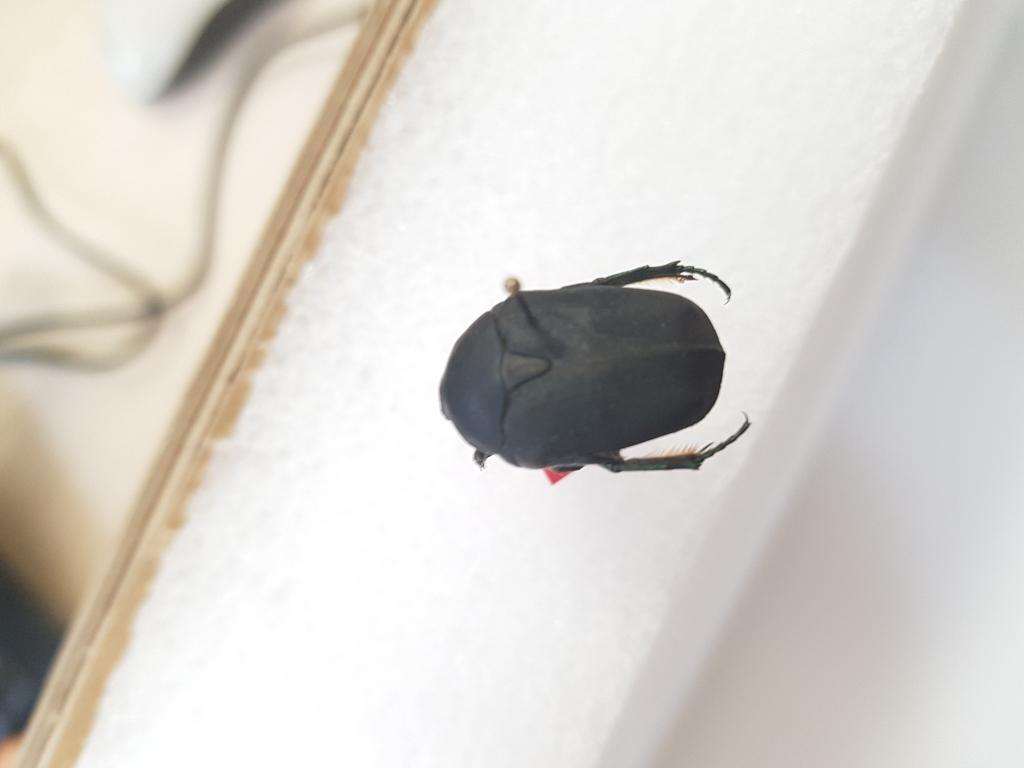Protaetia_afflicta: (414, 250, 759, 490)
